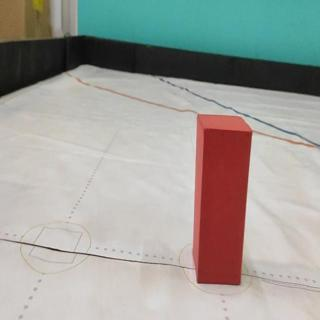redbox: (193, 112, 252, 284)
